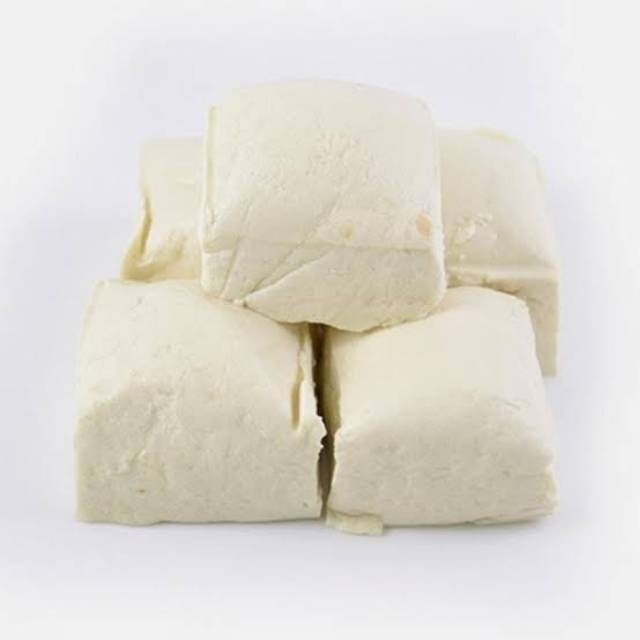Tahu: (130, 60, 441, 308), (53, 270, 335, 534), (334, 286, 527, 527)
